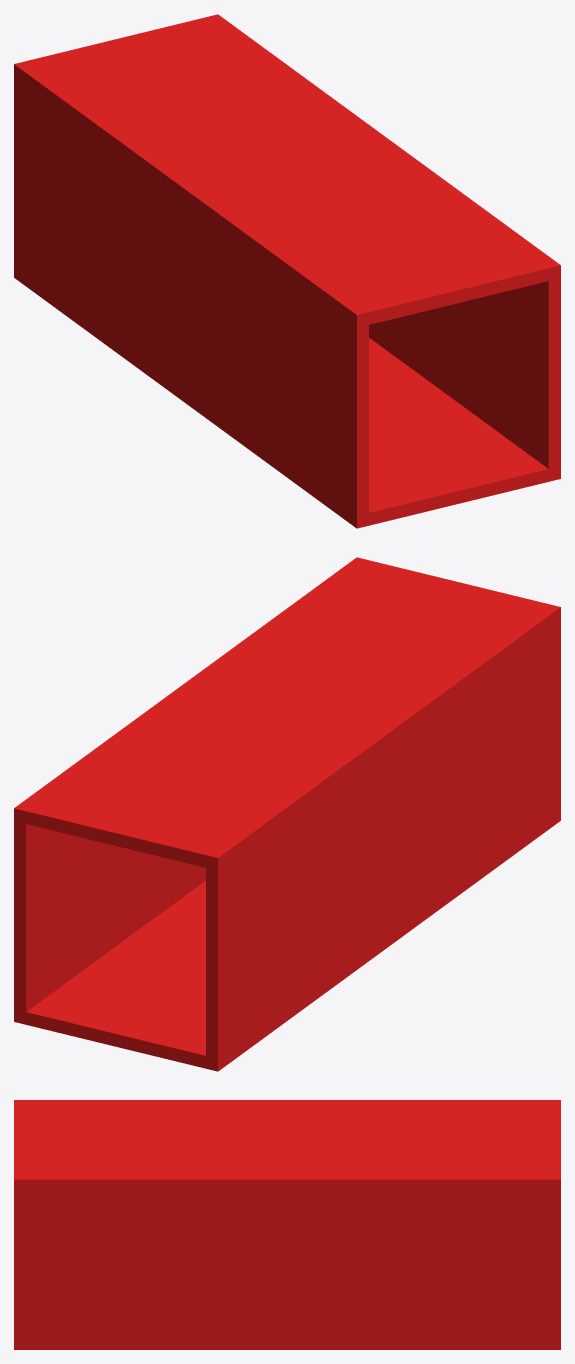
Rendered from Tunnel.fbx.
3 views of the same model, one above another, from view 1: azimuth 30°, elevation 25°; view 2: azimuth 150°, elevation 25°; view 3: azimuth 270°, elevation 25° (orthographic). The views are drawn at different scales.
Visible parts, largest first — view 1: Tunnel; view 2: Tunnel; view 3: Tunnel.
Part boxes in pixels (box(x1,y1,x2,y2)): Tunnel: box(14, 14, 560, 528); Tunnel: box(14, 557, 560, 1071); Tunnel: box(14, 1100, 560, 1349).
Size of the model in its own units: 100 by 100 by 291.
